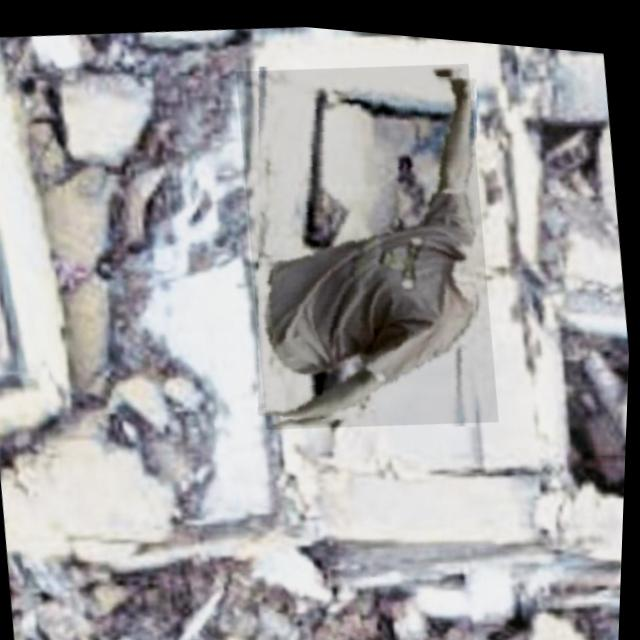Person in Rubble: (225, 38, 511, 440)
